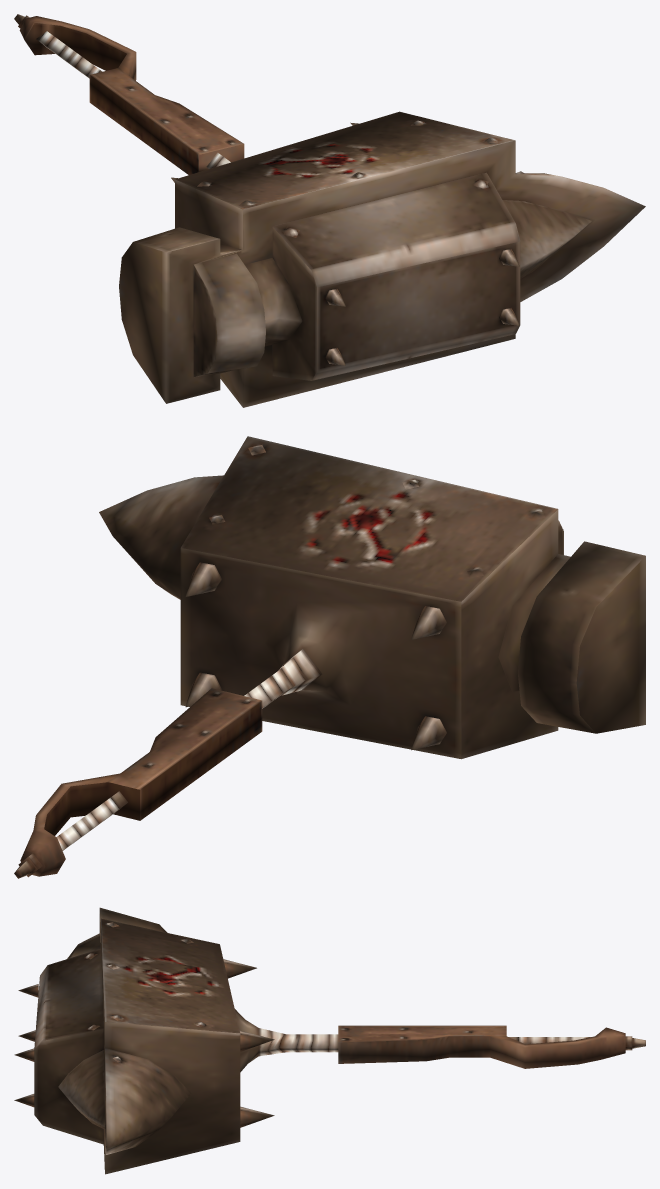
File: we034_amh.OBJ
3 renders of one model, top to bottom at view 1: azimuth 30°, elevation 25°; view 2: azimuth 150°, elevation 25°; view 3: azimuth 270°, elevation 25°, orthographic. The views are drawn at different scales.
Visible parts, largest first — view 1: mesh_0; view 2: mesh_0; view 3: mesh_0.
Part boxes in pixels (bbox=[...]): mesh_0: bbox=[14, 14, 645, 407]; mesh_0: bbox=[14, 436, 645, 878]; mesh_0: bbox=[14, 907, 645, 1174].
Bounding box in the file's own units: 139 × 54.63 × 203.
Materials: 1 (1 with a texture image).
